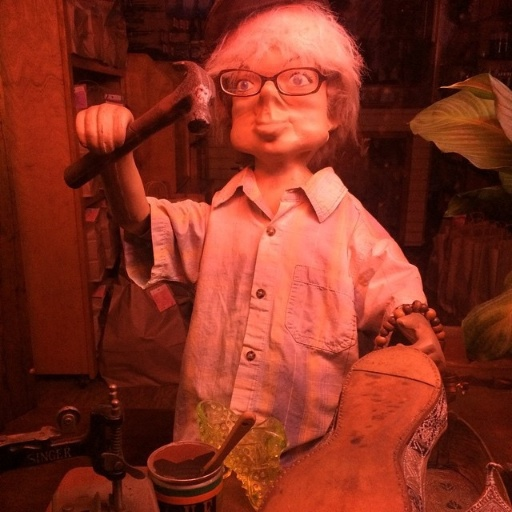hand: (58, 72, 153, 206), (72, 102, 136, 158), (393, 316, 448, 376)
